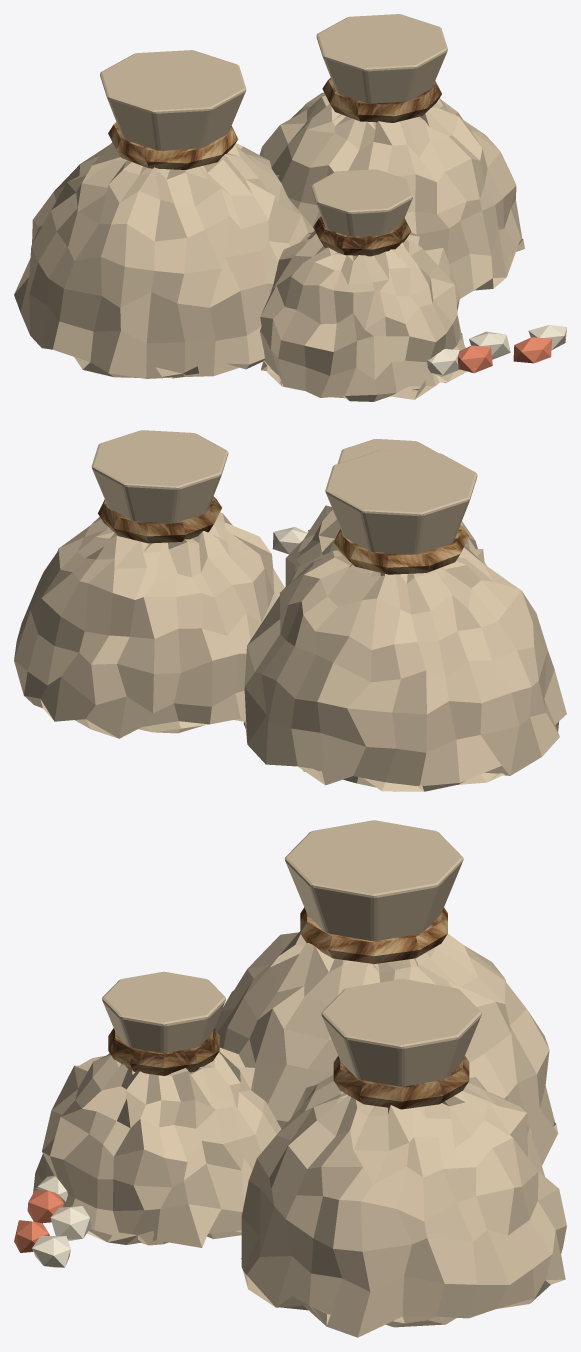
Rendered from grain_sacks.glb.
3 renders of one model, top to bottom at view 1: azimuth 30°, elevation 25°; view 2: azimuth 150°, elevation 25°; view 3: azimuth 270°, elevation 25°, orthographic. The views are drawn at different scales.
Visible parts, largest first — view 1: model; view 2: model; view 3: model.
Part boxes in pixels (x1,y1,x2,y2): model: (14,14,566,401); model: (14,430,566,791); model: (14,820,566,1337).
Bounding box in the file's own units: 0.7165 × 0.342 × 0.6053.
6 materials, 2 textured.
